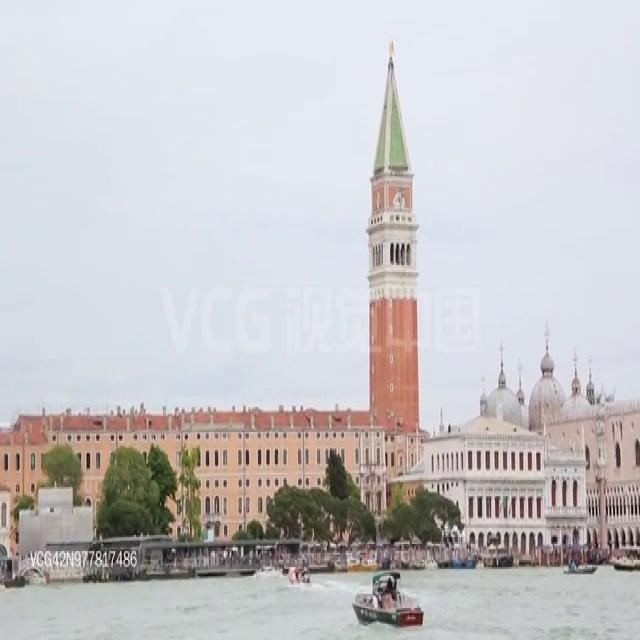houseboat: (353, 564, 420, 624), (612, 544, 640, 577), (287, 557, 310, 585), (564, 556, 596, 574)
